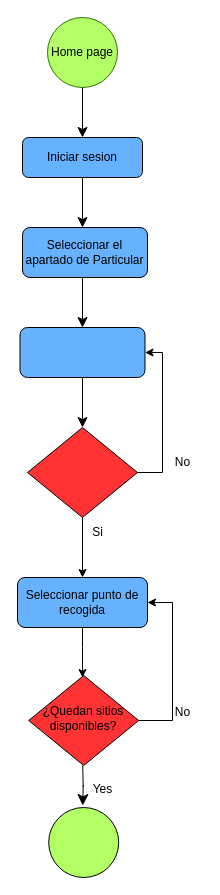
The diagram is 220 pixels wide and 895 high, and some of its shapes have lost their labels. The shapes that lost their labels are listed below. From the top down, each one's centre as x and y in pixels, then its label:
the point at 82,352: Acceder a foro de un Municipio
the point at 82,472: ¿Existe foro?
the point at 83,842: Fin
